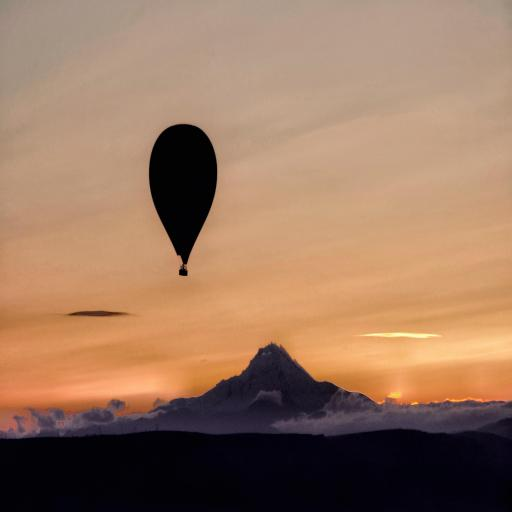hot air ballon: (148, 118, 218, 278)
